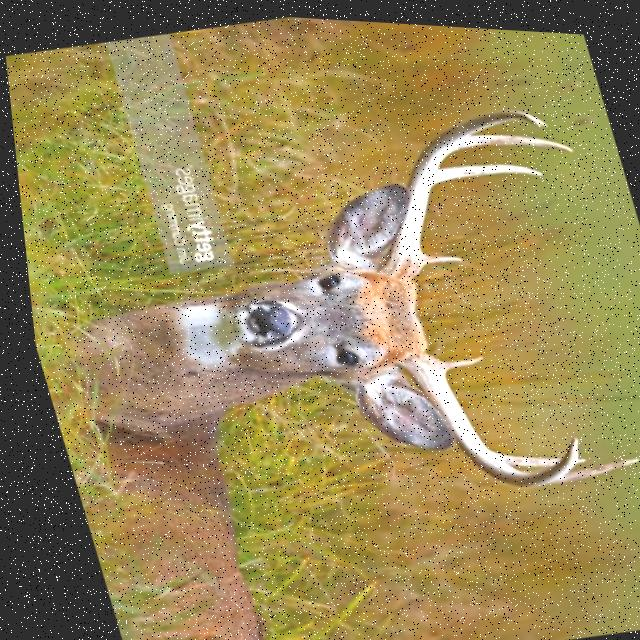L-F: (371, 104, 546, 278)
L-G1: (415, 249, 458, 263)
L-G2: (428, 158, 540, 180)
L-G3: (448, 129, 570, 147)
R-F: (386, 344, 571, 482)
R-G1: (432, 351, 476, 368)
